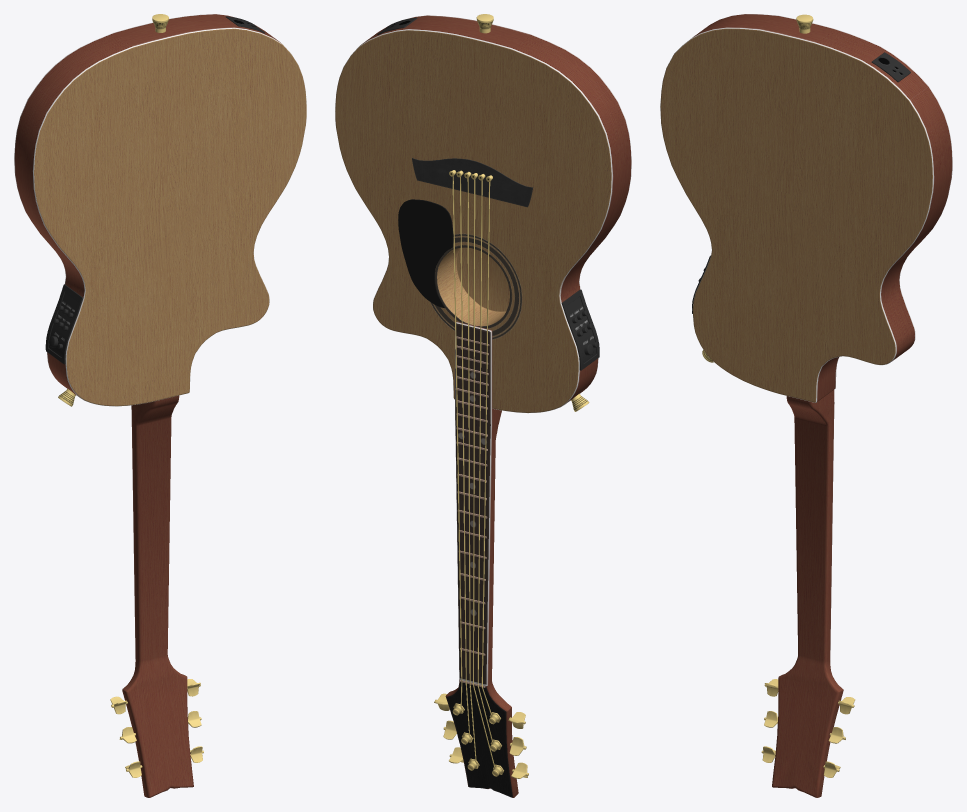
File: Guitar3.fbx
3 renders of one model, left to right at view 1: azimuth 30°, elevation 25°; view 2: azimuth 150°, elevation 25°; view 3: azimuth 330°, elevation 25°, orthographic.
Parts seen in each view (by area): view 1: Guitar; view 2: Guitar; view 3: Guitar.
Boxes of the visible parts, <box> form: Guitar: <box>14,14,306,797</box>; Guitar: <box>335,14,631,797</box>; Guitar: <box>660,14,952,797</box>.
Size of the model in its own units: 6.78 by 18.22 by 1.05.
